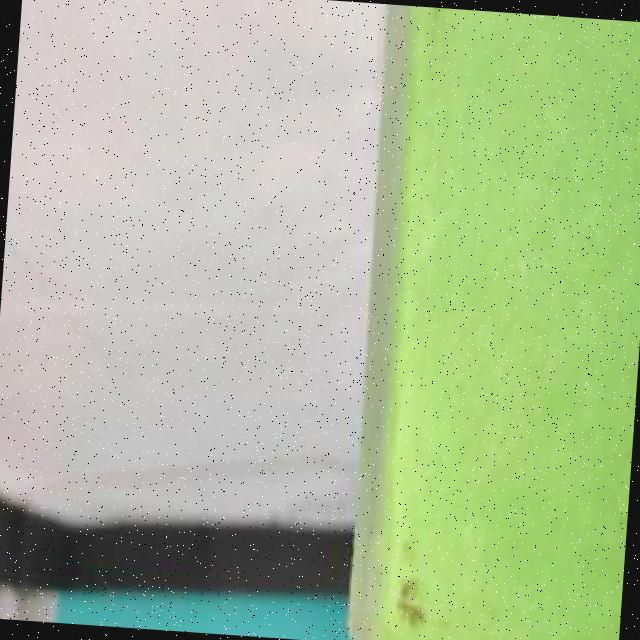greenbox: (339, 3, 640, 640)
